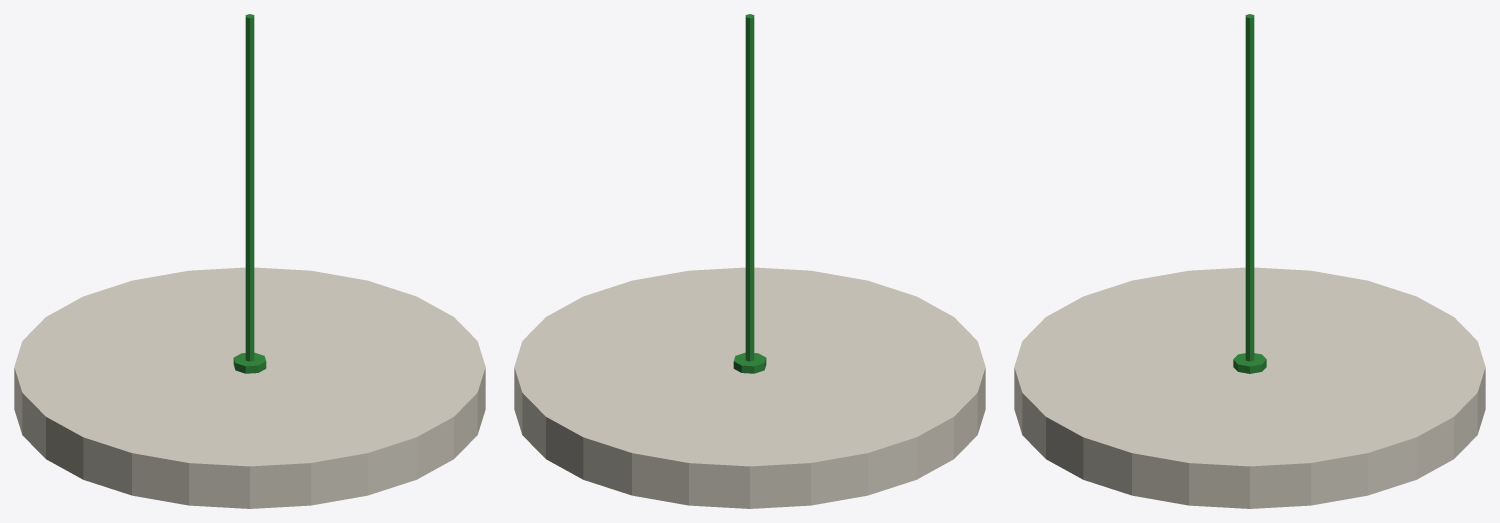
The model's file is rb_greenpole.glb.
3 renders of one model, left to right at view 1: azimuth 30°, elevation 25°; view 2: azimuth 150°, elevation 25°; view 3: azimuth 270°, elevation 25°, orthographic.
Visible parts, largest first — view 1: rb_greenpole_lod0; view 2: rb_greenpole_lod0; view 3: rb_greenpole_lod0.
Boxes of the visible parts, left/top/right/bottom form: rb_greenpole_lod0: left=14, top=14, right=485, bottom=508; rb_greenpole_lod0: left=514, top=14, right=985, bottom=508; rb_greenpole_lod0: left=1014, top=14, right=1485, bottom=508.
Size of what is drawn, in the model's own units: 16.8 by 15.46 by 16.8.
